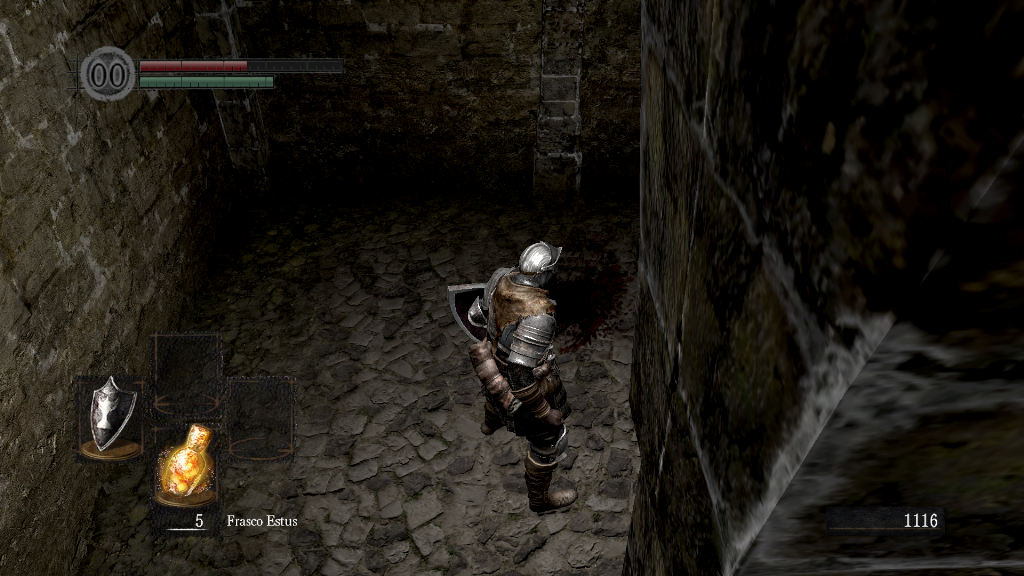health: (138, 58, 343, 71)
humanity: (80, 45, 136, 102)
player: (445, 238, 582, 514)
souls: (825, 506, 945, 536)
stamina: (138, 74, 274, 88)
